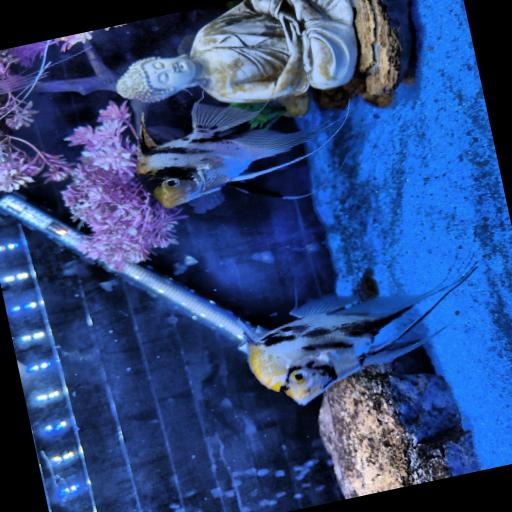Fish: (245, 270, 471, 403), (137, 102, 328, 207), (0, 72, 37, 94)
